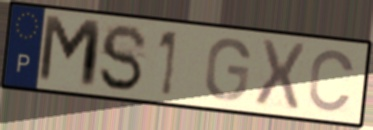1: (155, 29, 180, 98)
C: (306, 47, 357, 115)
G: (202, 36, 253, 103)
M: (35, 12, 105, 92)
S: (96, 22, 150, 94)
X: (251, 36, 308, 112)
